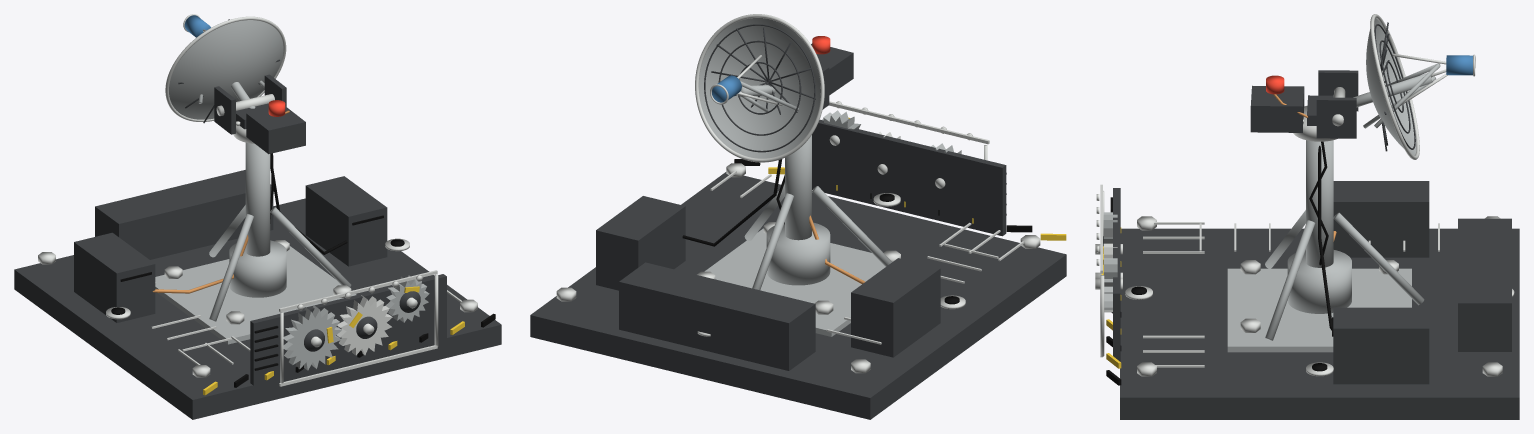
The model's file is radar.glb.
3 views of the same model, side by side, from view 1: azimuth 30°, elevation 25°; view 2: azimuth 150°, elevation 25°; view 3: azimuth 270°, elevation 25° (orthographic). The views are drawn at different scales.
Parts seen in each view (by area): view 1: Radar square machined base, Radar rear electronics box, Radar parabolic scanning dish, Radar raised central service plate, Radar front gear service panel, Radar right cooling cabinet, Radar left power cabinet, Radar central rotating mast, Radar mast lower bearing drum, Radar animated gear A large, Radar rear counterweight block, Radar animated gear B reversing (+8 smaller); view 2: Radar square machined base, Radar rear electronics box, Radar front gear service panel, Radar parabolic scanning dish, Radar left power cabinet, Radar right cooling cabinet, Radar raised central service plate, Radar mast lower bearing drum, Radar central rotating mast, Radar reinforced dish rim, Radar rear counterweight block, Radar tripod support leg 2 (+7 smaller); view 3: Radar square machined base, Radar raised central service plate, Radar right cooling cabinet, Radar rear electronics box, Radar left power cabinet, Radar mast lower bearing drum, Radar central rotating mast, Radar parabolic scanning dish, Radar rear counterweight block, Radar right yoke cheek plate, Radar front gear service panel, Radar reinforced dish rim (+9 smaller).
Boxes of the visible parts, x1=… form: Radar square machined base: x1=14, y1=198, x2=501, y2=419; Radar rear electronics box: x1=95, y1=170, x2=273, y2=259; Radar parabolic scanning dish: x1=169, y1=20, x2=283, y2=119; Radar raised central service plate: x1=155, y1=246, x2=356, y2=344; Radar front gear service panel: x1=250, y1=274, x2=446, y2=385; Radar right cooling cabinet: x1=305, y1=176, x2=387, y2=266; Radar left power cabinet: x1=74, y1=232, x2=155, y2=322; Radar central rotating mast: x1=245, y1=142, x2=270, y2=256; Radar mast lower bearing drum: x1=229, y1=240, x2=286, y2=297; Radar animated gear A large: x1=283, y1=305, x2=341, y2=370; Radar rear counterweight block: x1=246, y1=106, x2=305, y2=154; Radar animated gear B reversing: x1=336, y1=295, x2=392, y2=355; Radar square machined base: x1=530, y1=172, x2=1066, y2=419; Radar rear electronics box: x1=619, y1=262, x2=815, y2=370; Radar front gear service panel: x1=812, y1=119, x2=1006, y2=236; Radar parabolic scanning dish: x1=699, y1=18, x2=820, y2=158; Radar left power cabinet: x1=851, y1=258, x2=940, y2=357; Radar right cooling cabinet: x1=596, y1=196, x2=685, y2=290; Radar raised central service plate: x1=704, y1=228, x2=885, y2=336; Radar mast lower bearing drum: x1=766, y1=222, x2=830, y2=285; Radar central rotating mast: x1=785, y1=135, x2=811, y2=240; Radar reinforced dish rim: x1=695, y1=14, x2=824, y2=162; Radar rear counterweight block: x1=811, y1=43, x2=853, y2=95; Radar tripod support leg 2: x1=812, y1=186, x2=892, y2=266; Radar square machined base: x1=1120, y1=228, x2=1519, y2=419; Radar raised central service plate: x1=1227, y1=268, x2=1411, y2=352; Radar right cooling cabinet: x1=1333, y1=307, x2=1429, y2=384; Radar rear electronics box: x1=1458, y1=218, x2=1511, y2=351; Radar left power cabinet: x1=1333, y1=181, x2=1429, y2=257; Radar mast lower bearing drum: x1=1287, y1=250, x2=1351, y2=313; Radar central rotating mast: x1=1306, y1=140, x2=1333, y2=267; Radar parabolic scanning dish: x1=1366, y1=18, x2=1416, y2=155; Radar rear counterweight block: x1=1250, y1=85, x2=1304, y2=132; Radar right yoke cheek plate: x1=1316, y1=97, x2=1356, y2=138; Radar front gear service panel: x1=1113, y1=188, x2=1120, y2=361; Radar reinforced dish rim: x1=1370, y1=14, x2=1419, y2=159.
Size of what is drawn, in the model's own units: 2.83 by 2.46 by 3.
